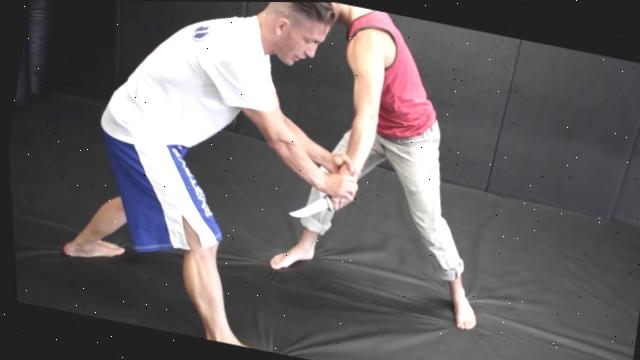pocket-knife: (280, 174, 359, 229)
